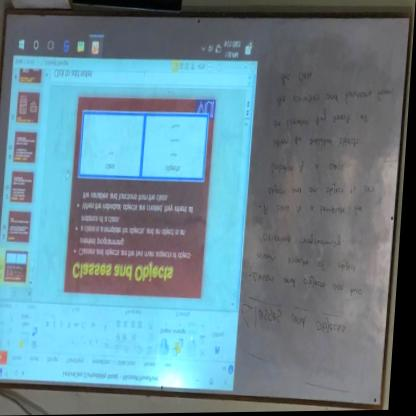Handwritten text: (235, 292, 359, 361), (251, 266, 374, 311), (258, 246, 364, 282), (264, 218, 350, 257), (277, 88, 401, 109), (266, 180, 379, 203), (270, 108, 373, 133), (263, 202, 367, 222), (271, 133, 365, 153), (269, 158, 350, 179), (276, 67, 314, 90)
